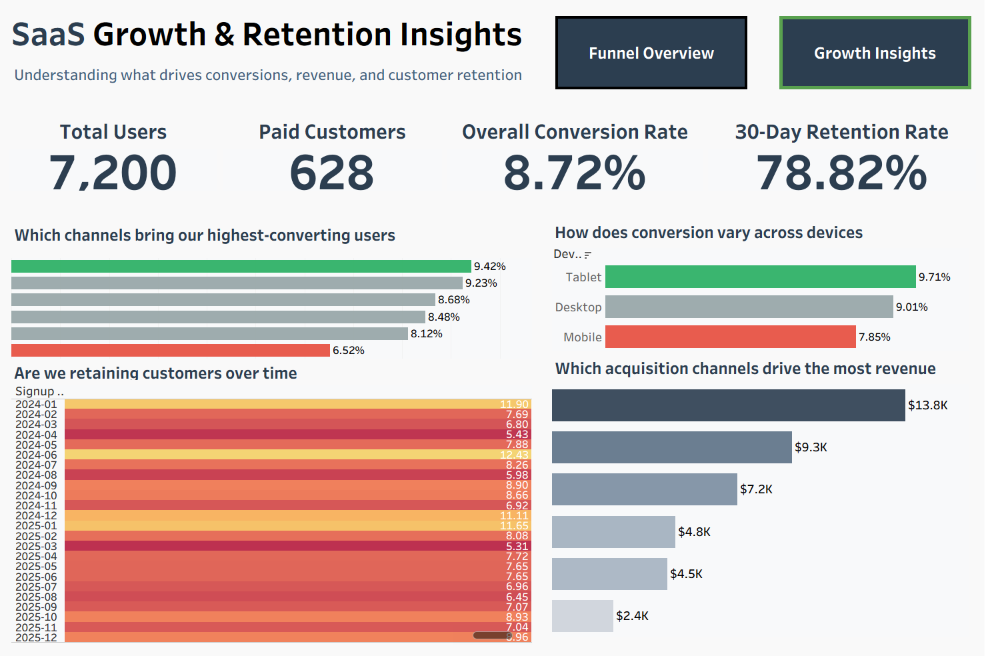

This screenshot's page, from the dashboard's own definition file:
{"tool":"tableau","page":{"name":"Growth Insights","canvas":[1500,1000],"ordinal":1},"visuals":[{"type":"dashboard-object","box":[820,8,336,158]},{"type":"dashboard-object","box":[1156,8,336,158]},{"type":"text","box":[24,24,780.1,64]},{"type":"text","box":[24,88,780.1,62]},{"type":"text","box":[21,179,320,49]},{"type":"text","box":[341,179,337,49]},{"type":"text","box":[678,179,391,49]},{"type":"text","box":[1069,179,410,49]},{"type":"worksheet","title":"KPI - Total Users","mark":"Automatic","box":[21,228,320,70]},{"type":"worksheet","title":"KPI - Paid Customers","mark":"Automatic","box":[341,228,337,70]},{"type":"worksheet","title":"KPI - Conversion Rate","mark":"Automatic","box":[678,228,391,70]},{"type":"worksheet","title":"KPI - Retention Rate","mark":"Automatic","box":[1069,228,410,70]},{"type":"text","box":[24,327,789,64]},{"type":"text","box":[835,335,633,41]},{"type":"worksheet","title":"Conversion Rate by Device","mark":"Bar","rows":["device"],"cols":["Calculation_1049498684993536"],"box":[835,376,633,163]},{"type":"worksheet","title":"Conversion Rate by Acquisition Channel","mark":"Bar","rows":["acquisition_channel"],"cols":["Calculation_1049498684993536"],"box":[24,391,789,159]},{"type":"text","box":[835,539,633,41]},{"type":"text","box":[24,550,789,32]},{"type":"worksheet","title":"Revenue By Acquisition Channel","mark":"Bar","rows":["acquisition_channel"],"cols":["subscription_revenue"],"box":[835,580,633,388]},{"type":"worksheet","title":"Monthly Retention Trend","mark":"Square","rows":["signup_month"],"box":[24,582,789,393.9]}]}

Visuals, with their boxes in screenshot pixels (x1, y1, x2, y2), scaled from the page's 1500x1000 canvas onto the 985x658 screenshot:
dashboard-object: 538,5,759,109
dashboard-object: 759,5,980,109
text: 16,16,528,58
text: 16,58,528,99
text: 14,118,224,150
text: 224,118,445,150
text: 445,118,702,150
text: 702,118,971,150
"KPI - Total Users" worksheet: 14,150,224,196
"KPI - Paid Customers" worksheet: 224,150,445,196
"KPI - Conversion Rate" worksheet: 445,150,702,196
"KPI - Retention Rate" worksheet: 702,150,971,196
text: 16,215,534,257
text: 548,220,964,247
"Conversion Rate by Device" worksheet (Bar marks): 548,247,964,355
"Conversion Rate by Acquisition Channel" worksheet (Bar marks): 16,257,534,362
text: 548,355,964,382
text: 16,362,534,383
"Revenue By Acquisition Channel" worksheet (Bar marks): 548,382,964,637
"Monthly Retention Trend" worksheet (Square marks): 16,383,534,642
